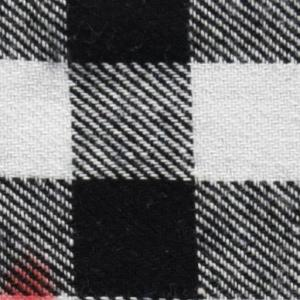Stain: (1, 254, 61, 300)
